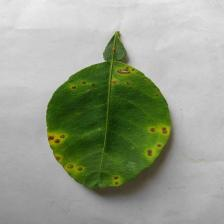canker: (49, 61, 177, 192)
